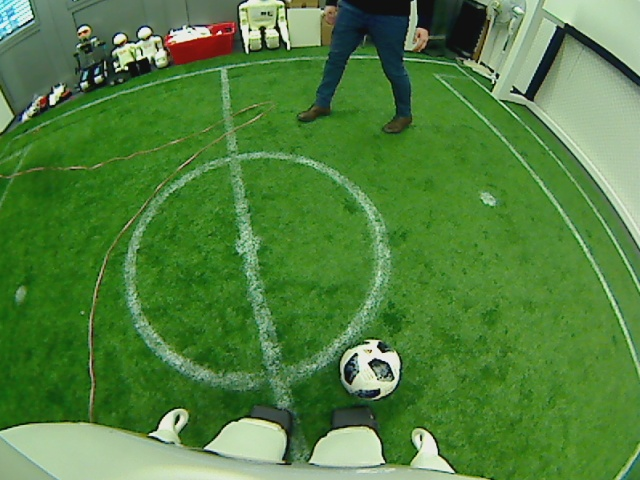ball: (336, 339, 400, 402)
